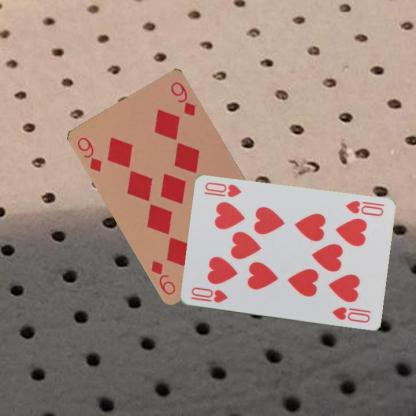10h: (188, 284, 229, 304), (343, 198, 384, 218)
9d: (74, 134, 104, 173)
